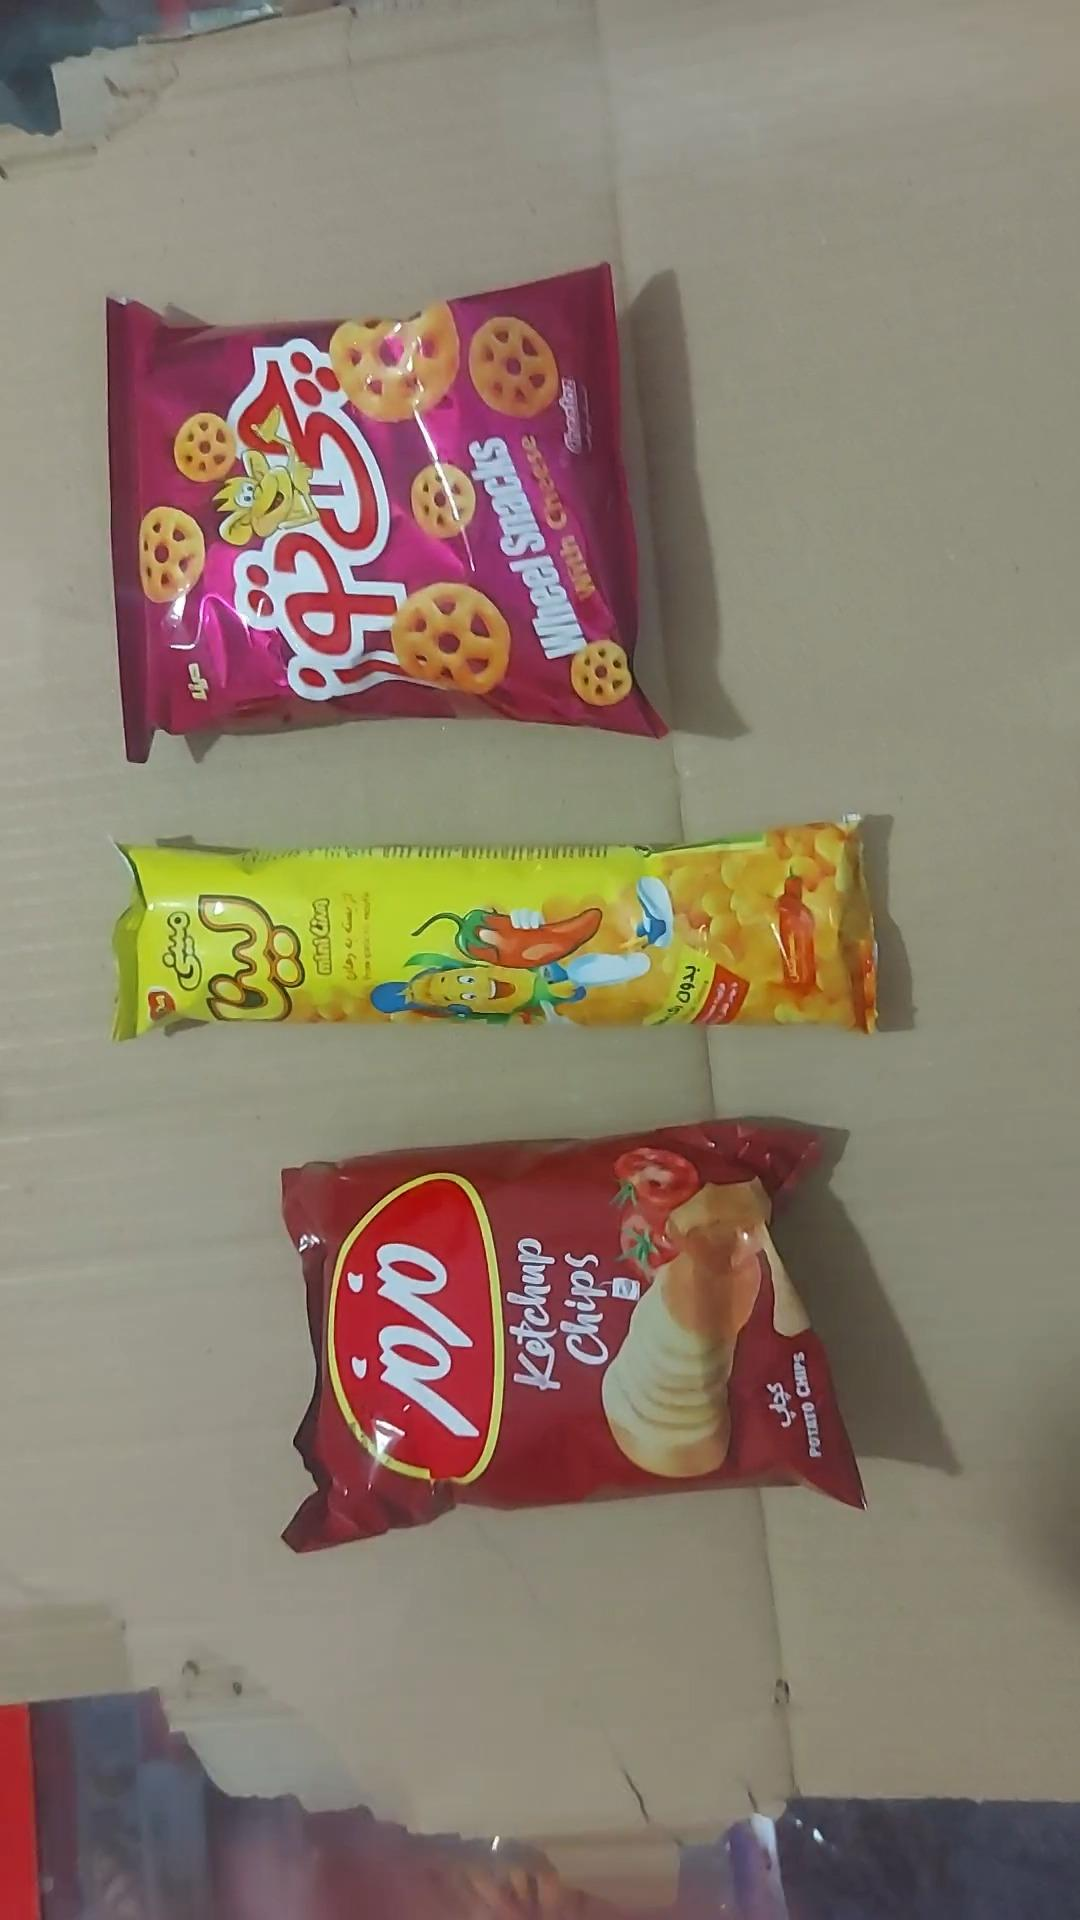Cheetoz wheelsnack: (108, 266, 663, 761)
Maz Maz ketchup chips: (282, 1124, 865, 1549)
Mini Lina: (113, 822, 877, 1039)
